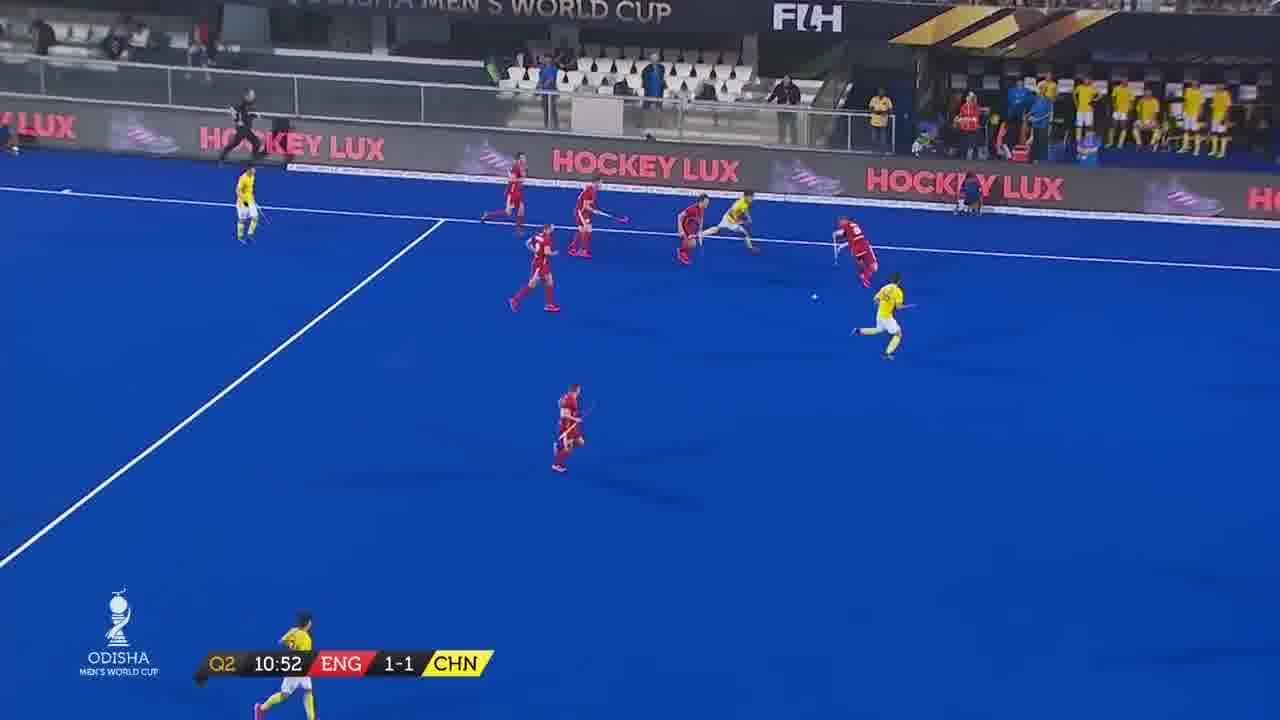ball: (810, 292, 821, 307)
